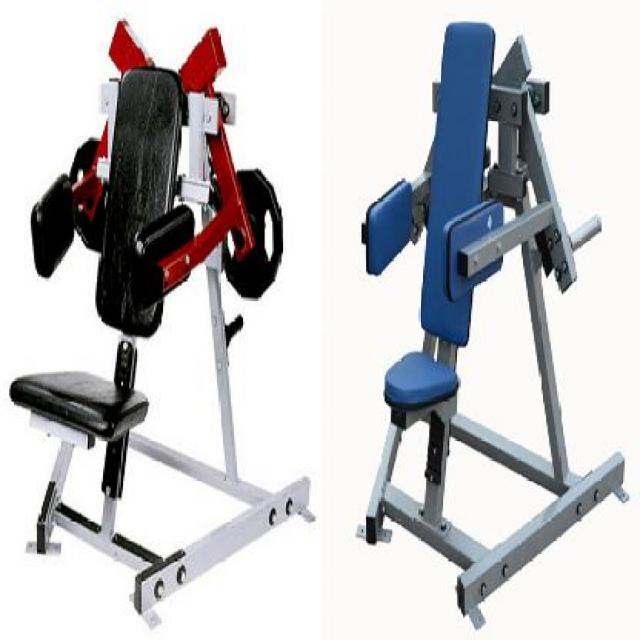lateral raises machine: (11, 17, 317, 626), (358, 20, 628, 628)
